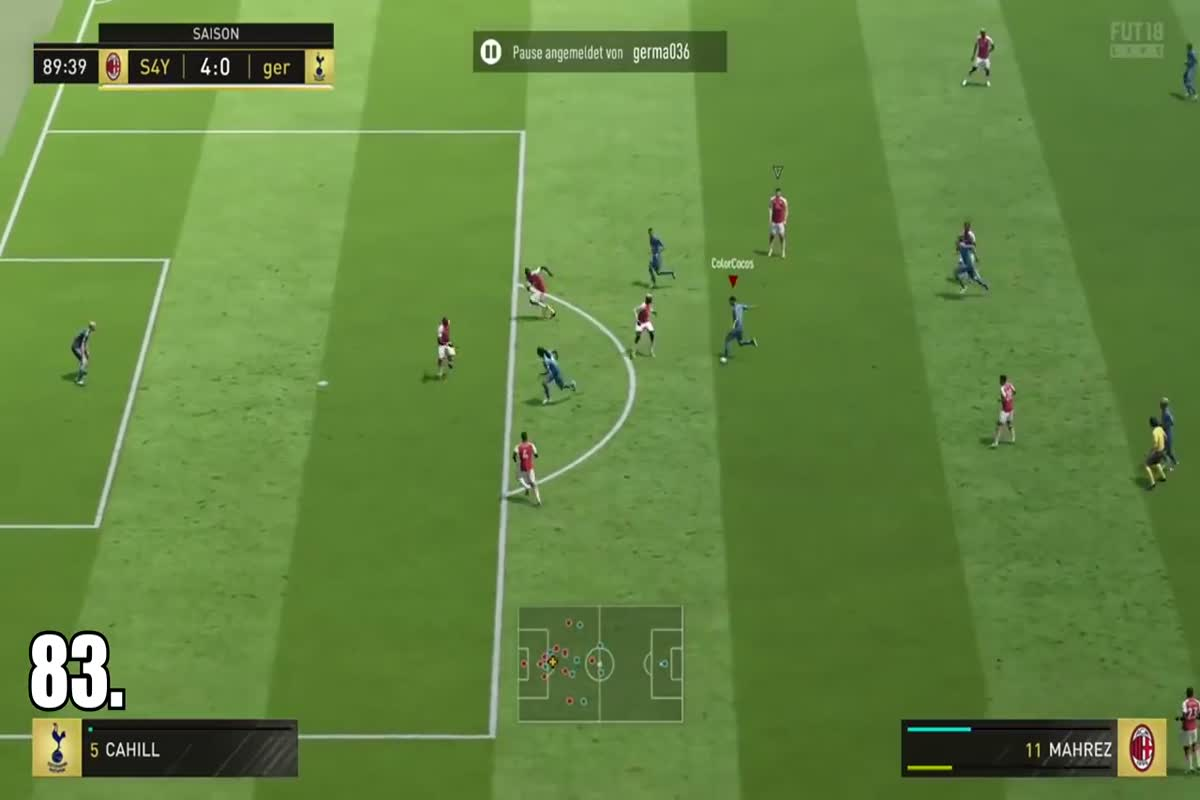ball: (711, 349, 738, 371)
